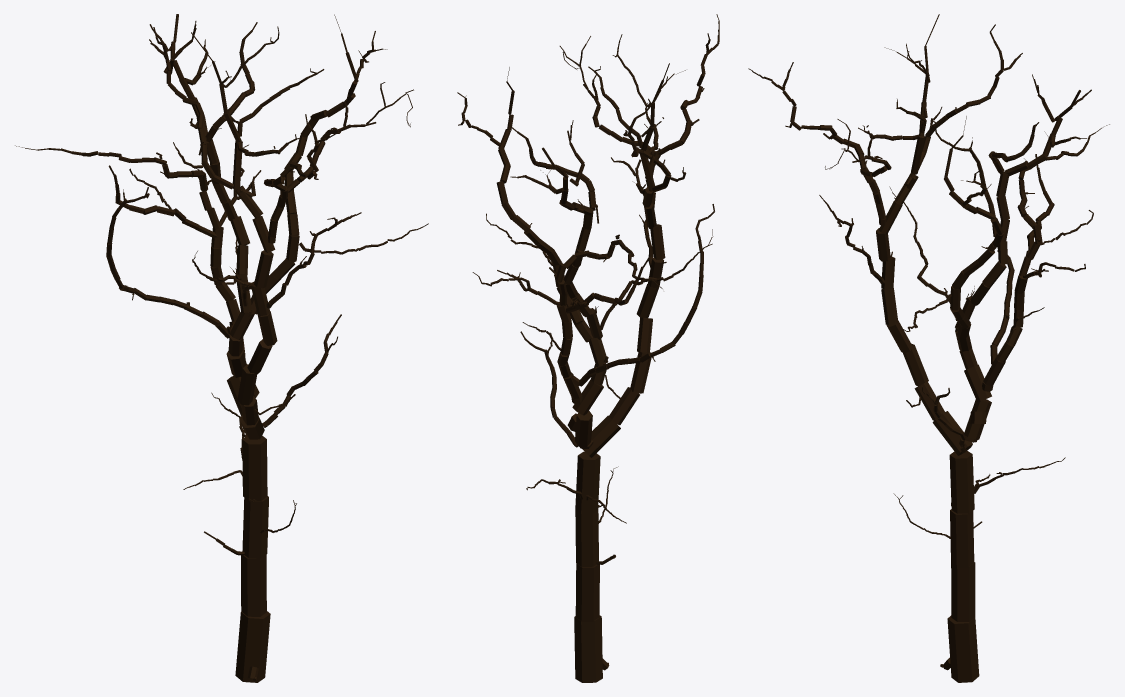
Rendered from tree_530_no_leaf.obj.
3 views of the same model, side by side, from view 1: azimuth 30°, elevation 25°; view 2: azimuth 150°, elevation 25°; view 3: azimuth 270°, elevation 25° (orthographic). The views are drawn at different scales.
Visible parts, largest first — view 1: TrunkAndBranches; view 2: TrunkAndBranches; view 3: TrunkAndBranches.
Part boxes in pixels (left/top/right/bottom): TrunkAndBranches: left=15, top=14, right=428, bottom=682; TrunkAndBranches: left=457, top=14, right=719, bottom=682; TrunkAndBranches: left=748, top=14, right=1109, bottom=682.
Bounding box in the file's own units: 7.84 × 16.66 × 8.65.
